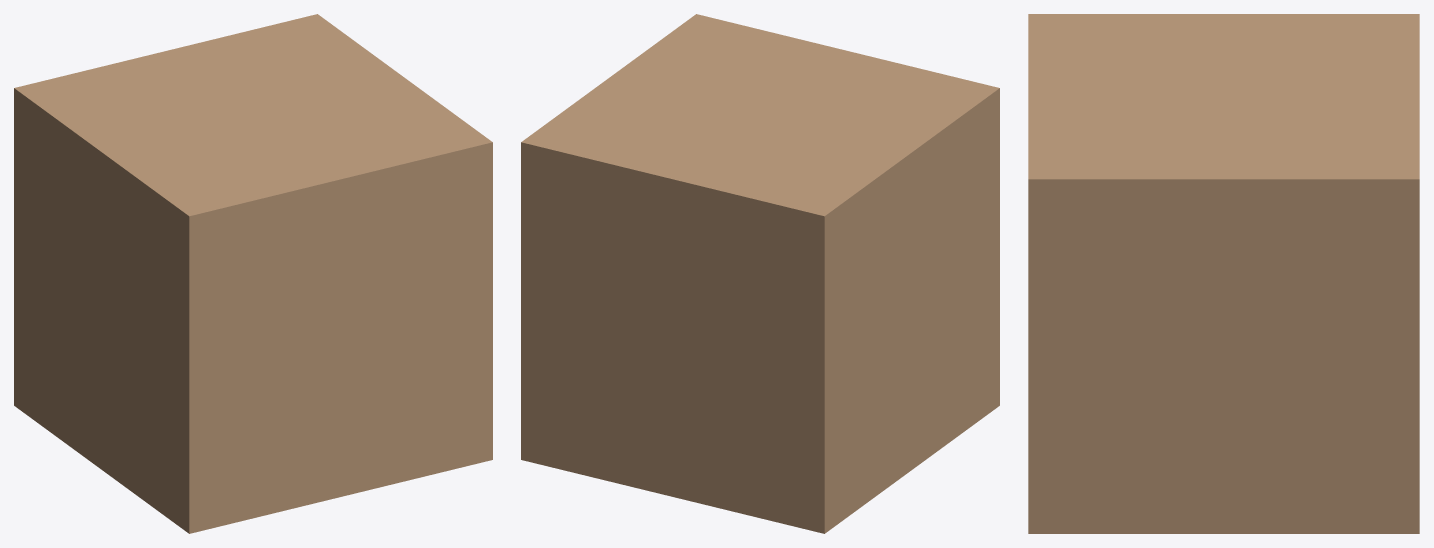
Rendered from _test-villa-block-low.glb.
3 renders of one model, left to right at view 1: azimuth 30°, elevation 25°; view 2: azimuth 150°, elevation 25°; view 3: azimuth 270°, elevation 25°, orthographic. The views are drawn at different scales.
Parts seen in each view (by area): view 1: block; view 2: block; view 3: block.
Boxes of the visible parts, left/top/right/bottom form: block: left=14, top=14, right=492, bottom=533; block: left=521, top=14, right=999, bottom=533; block: left=1028, top=14, right=1419, bottom=533.
Size of the model in its own units: 2 by 2 by 2.
